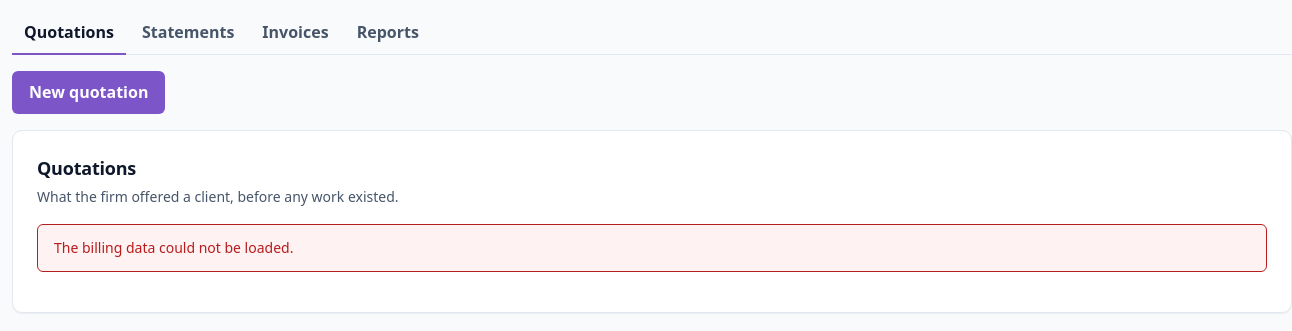
Test: an invoice the firm is still working against › says nothing when the invoice is merely unpaid
The width and height of the screenshot is (1292, 331).
Click the button "Invoices" at (296, 33), box [250, 12, 341, 55]
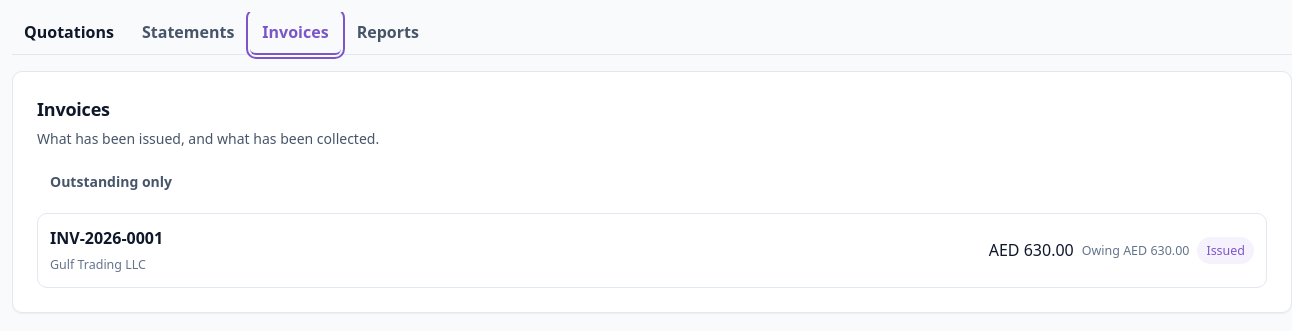
expect the text "INV-2026-0001" is shown: met, box [50, 226, 163, 251]
